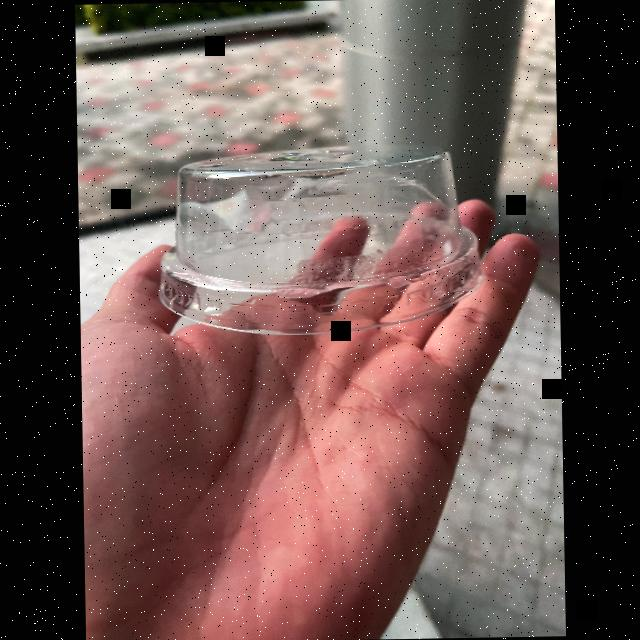plastic_cup_lid: (148, 136, 484, 344)
